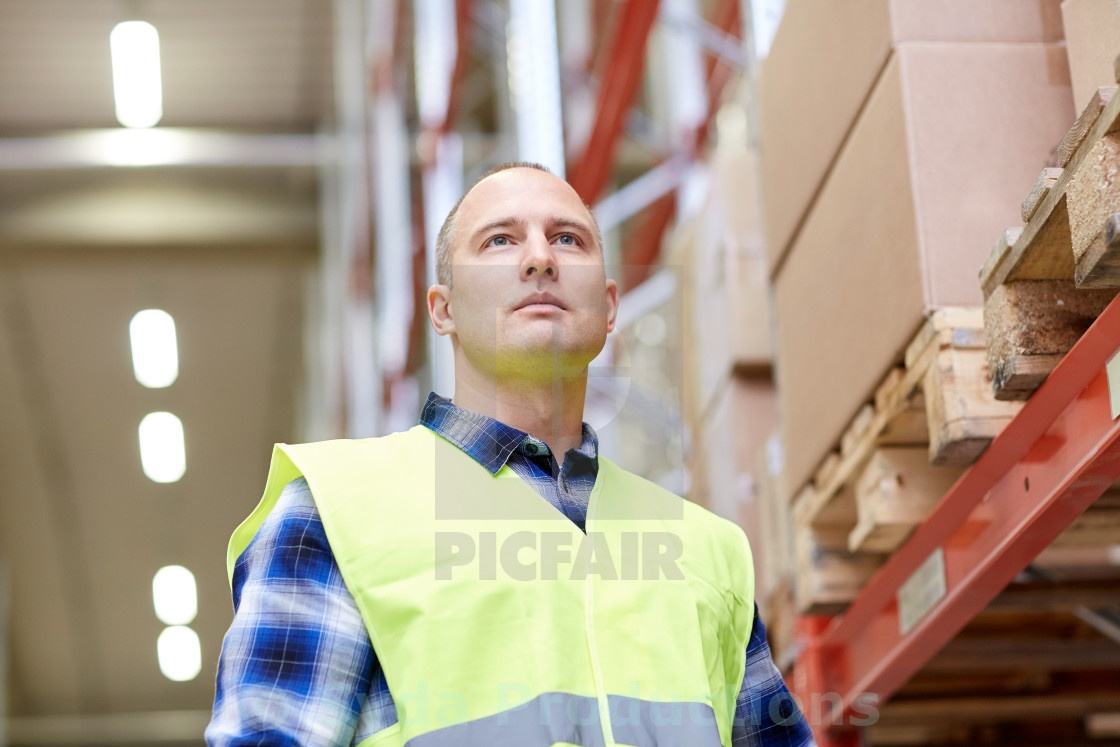person with partial safety: (225, 160, 806, 746)
safety vest: (262, 424, 743, 747)
